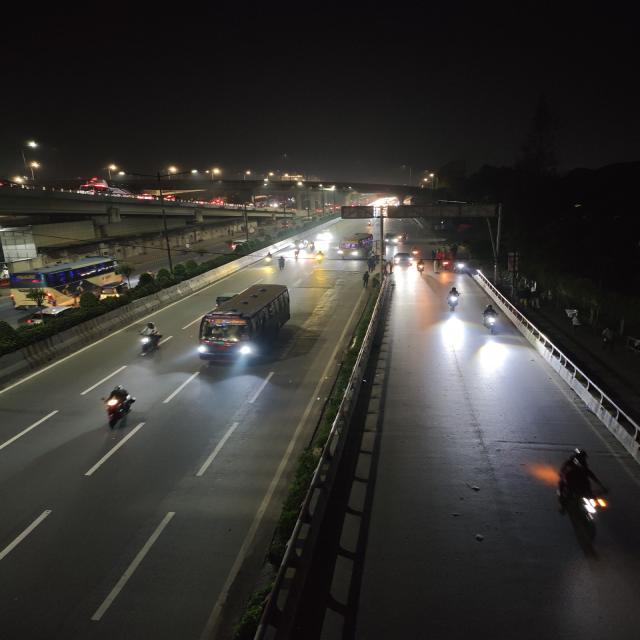bus: (192, 279, 296, 369), (7, 257, 124, 313), (336, 232, 377, 260)
car: (392, 251, 414, 267), (227, 239, 247, 253)
motorcycle: (551, 446, 616, 540), (96, 383, 140, 435), (129, 320, 164, 360), (479, 304, 504, 336), (440, 286, 466, 316), (261, 252, 276, 268), (276, 254, 288, 272), (415, 260, 427, 276), (315, 250, 327, 263), (264, 249, 275, 262), (309, 247, 321, 257)
pedestrian: (599, 326, 617, 354), (359, 270, 372, 289)
